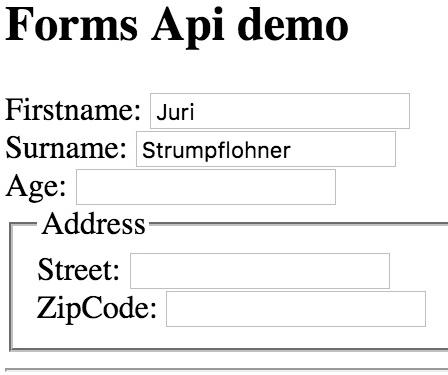field: (145, 91, 414, 131), (132, 129, 399, 169), (160, 290, 430, 329), (71, 168, 337, 207), (125, 252, 394, 290)
field_with_label: (3, 88, 417, 134), (5, 128, 402, 171), (35, 287, 432, 330), (37, 250, 394, 291), (7, 167, 339, 209)
